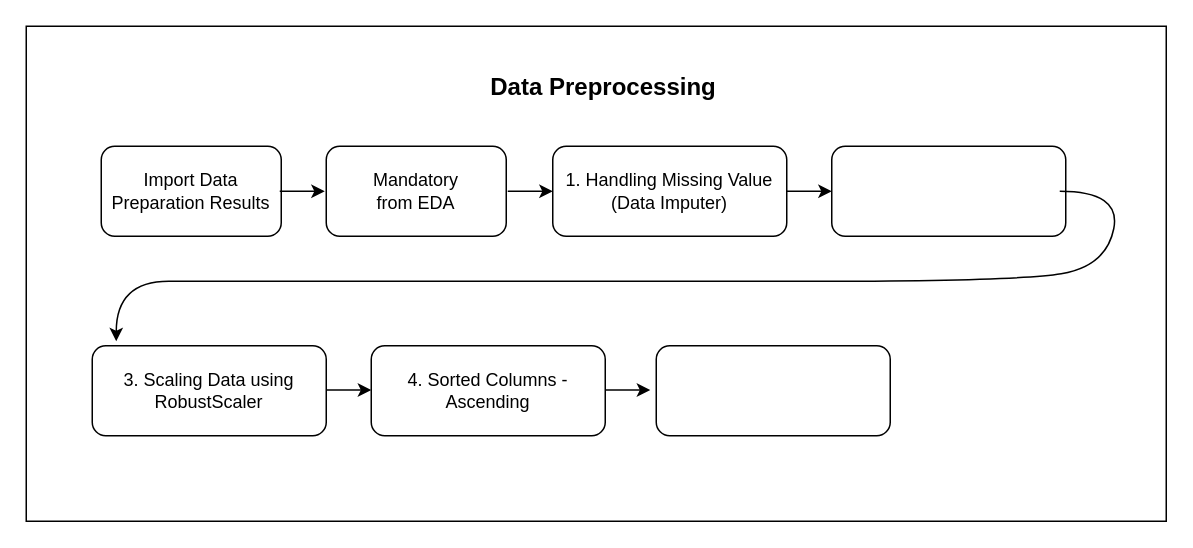
Image size: 1193x548. Some labels were removed from this diagram. Here are the shapes that lost their labels. From the top down, the box of each, then its label:
(830, 145, 1066, 236): 2. Encoding using Get Dummies
(655, 344, 890, 436): 5. Save Data
